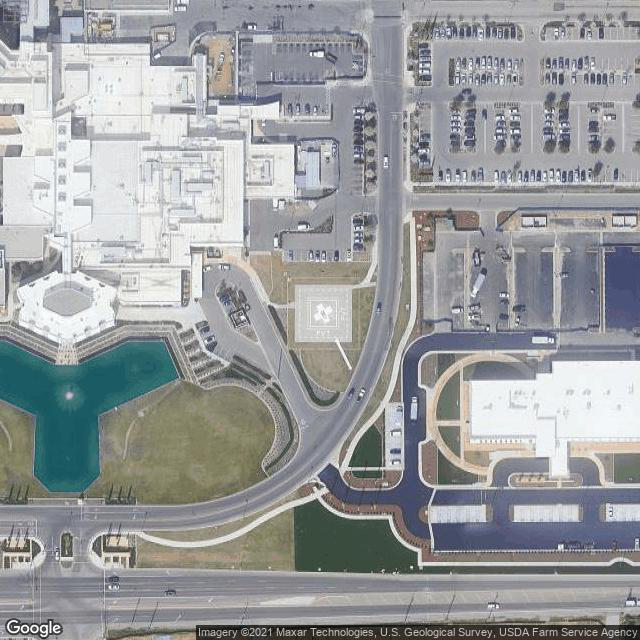Helipad: (308, 298, 339, 328)
